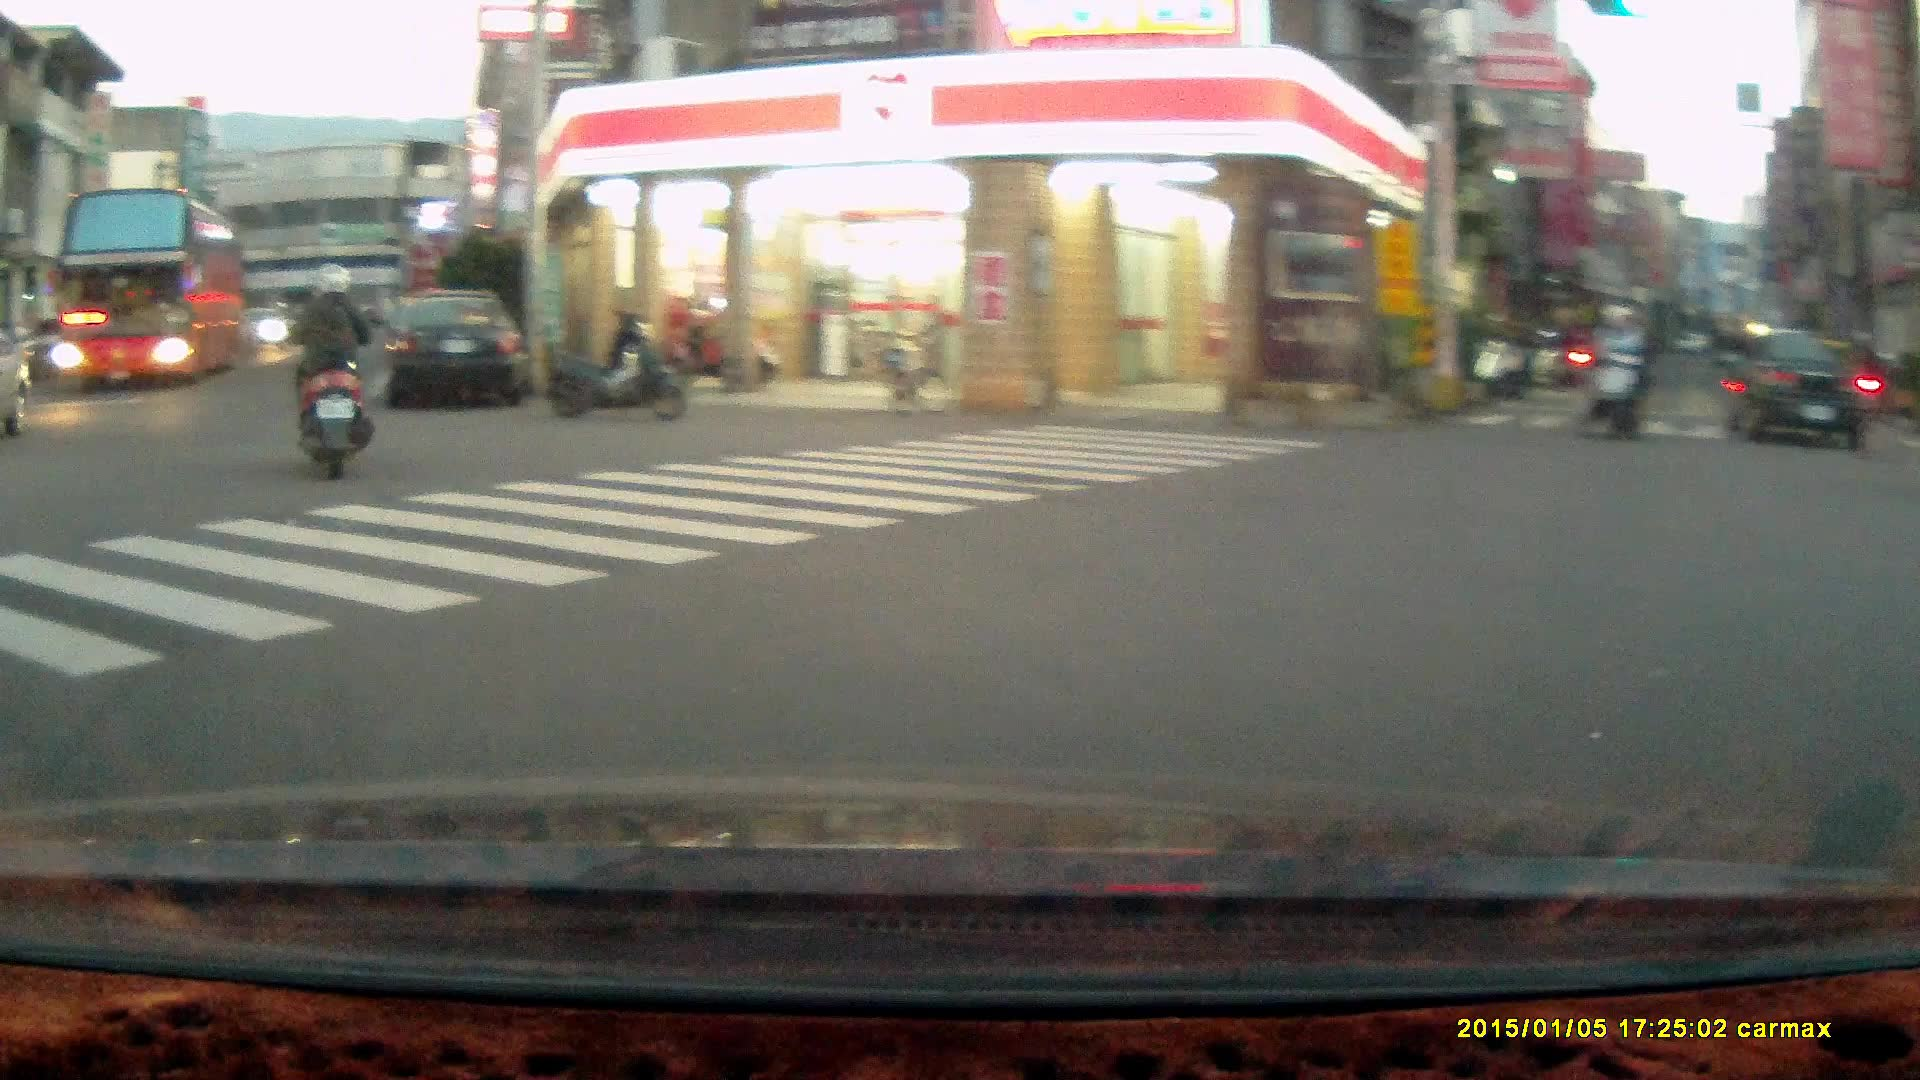rider: (283, 262, 380, 484), (1577, 300, 1648, 444)
vehicle: (55, 190, 246, 391), (1721, 332, 1875, 455), (382, 291, 530, 408)
